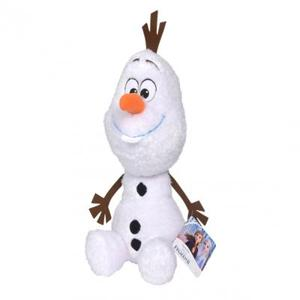olaf: (90, 8, 215, 290)
